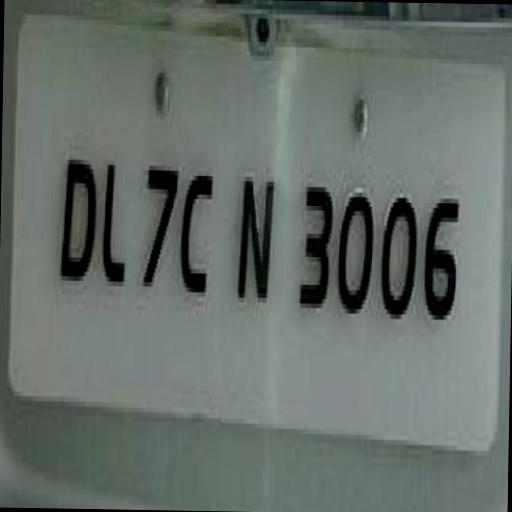number plate: (0, 9, 494, 460)
